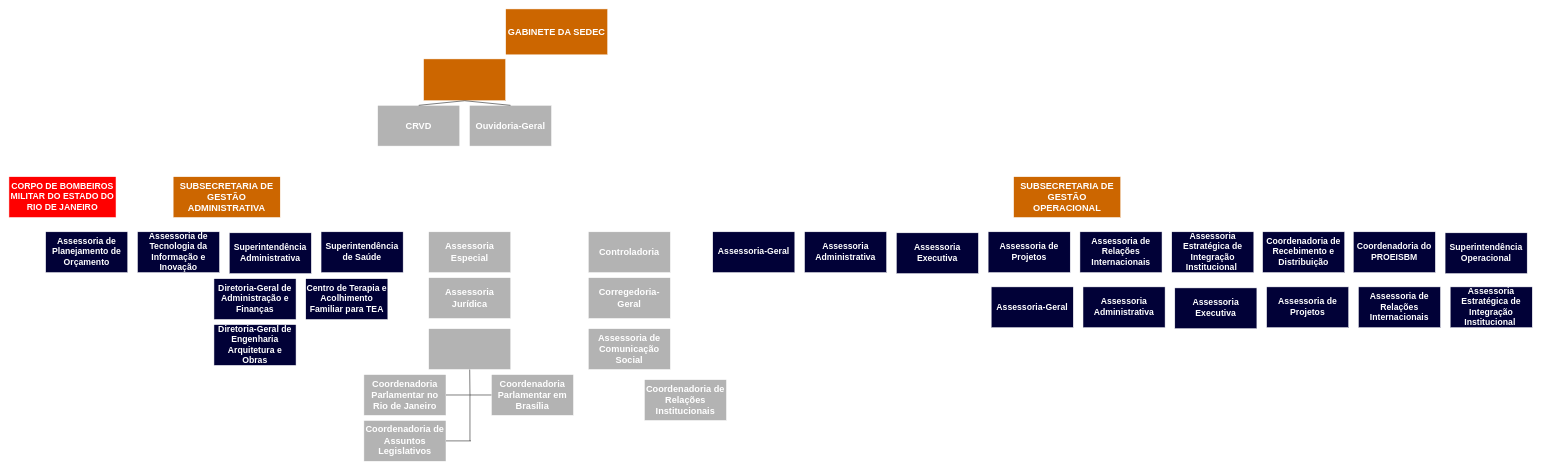
Some shapes in this 1541 by 470 pixel diagram are drawn without their labels. The centre of each missing label's shape, as x and y in pixels:
Assessoria de Relações Governamentais: [469,348]
CHEFIA DE GABINETE: [464,79]
